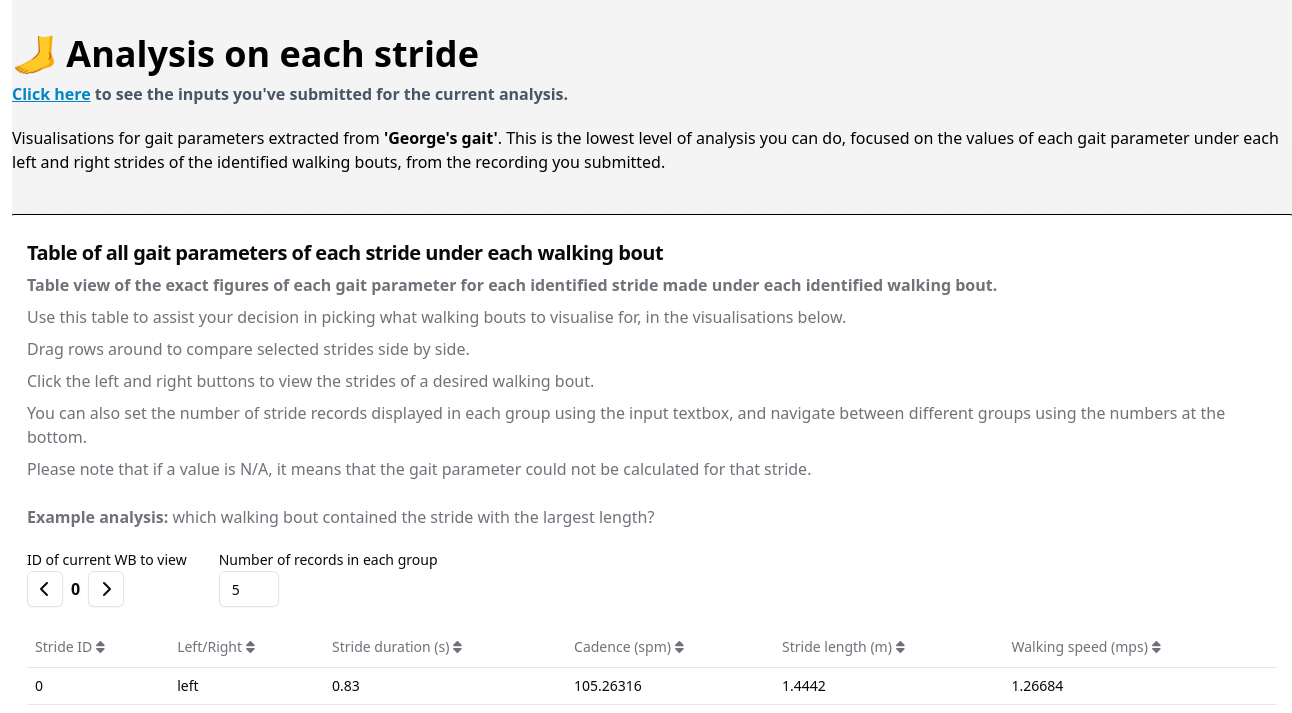
StrideAnalysis › TABLE: sorting function works (test for s_id)
Click the 1st picture with test id "sort-icon" at (100, 646), box [96, 640, 105, 654]
(page scrolled)
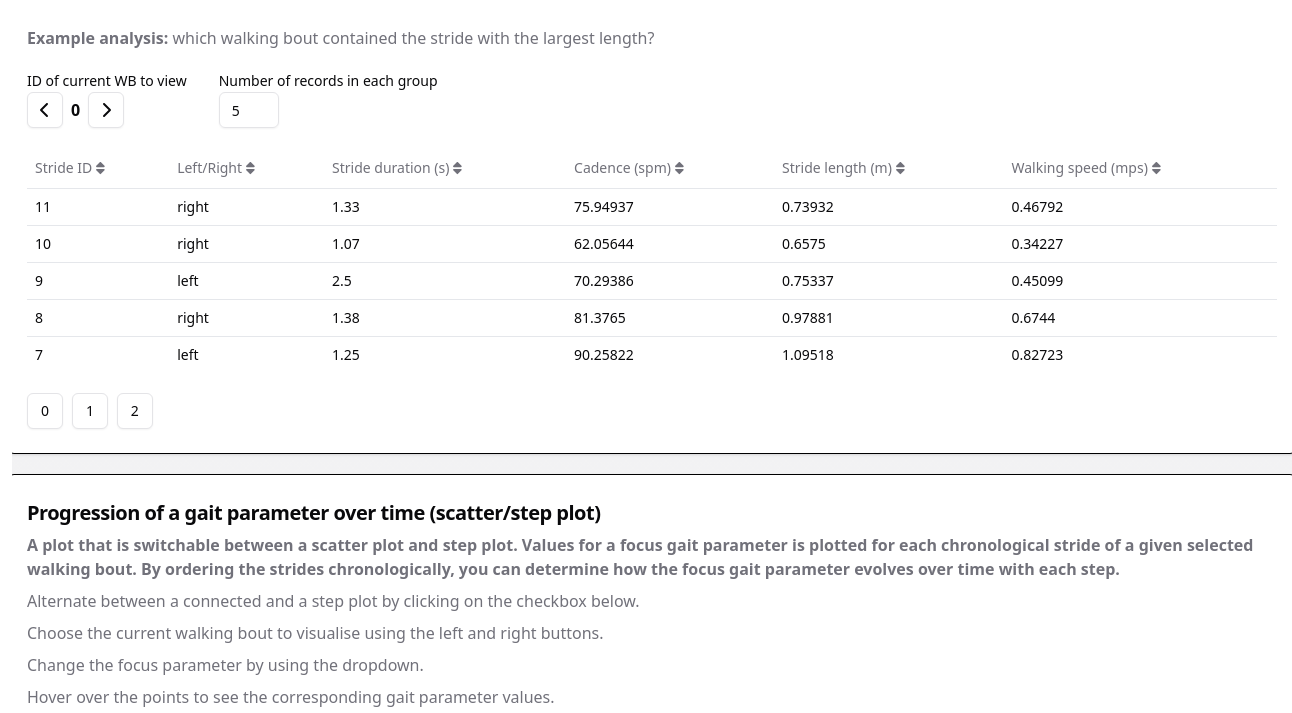
Now the text "11" is shown, box [27, 188, 169, 225]
Now the text "7" is shown, box [27, 336, 169, 372]
